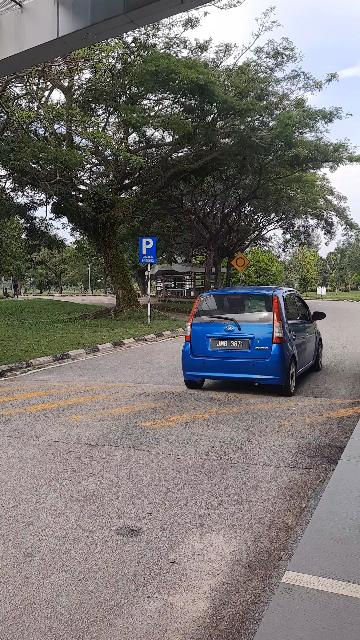License_Plate: (209, 337, 251, 351)
car: (181, 287, 330, 397)
